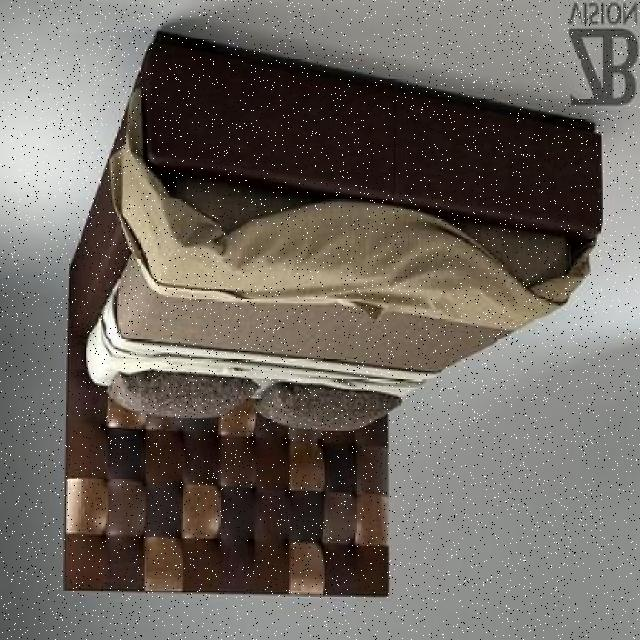Bed: (49, 22, 616, 606)
